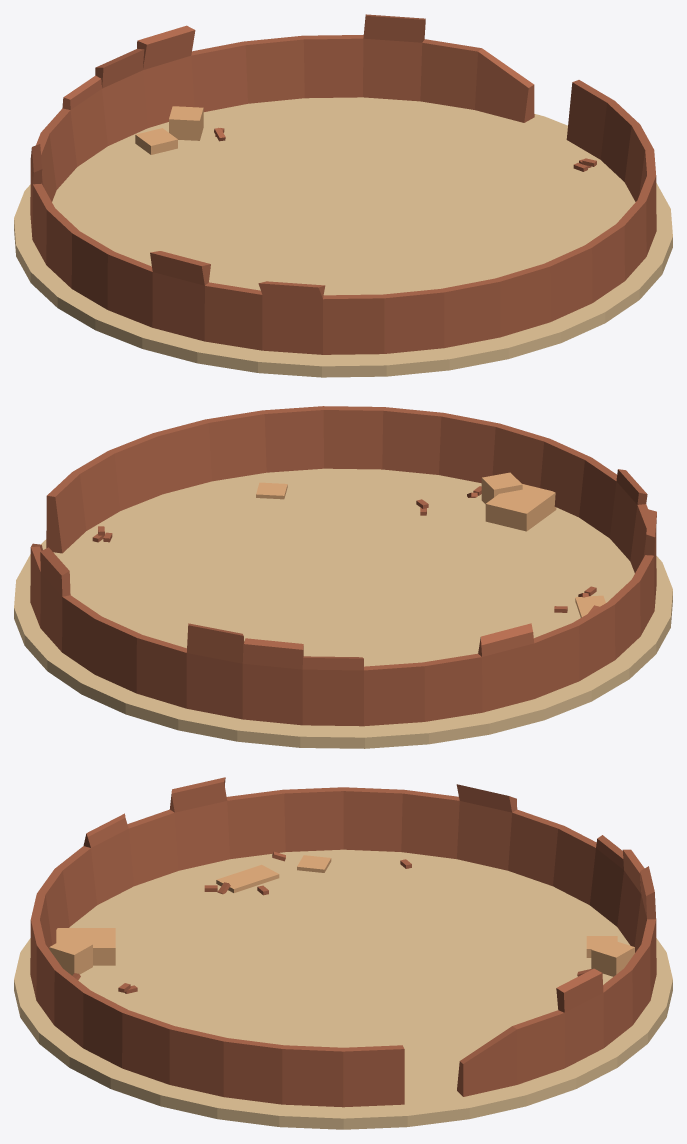
The model's file is arena.fbx.
3 views of the same model, one above another, from view 1: azimuth 30°, elevation 25°; view 2: azimuth 150°, elevation 25°; view 3: azimuth 270°, elevation 25° (orthographic).
Visible parts, largest first — view 1: Cube.021; view 2: Cube.021; view 3: Cube.021.
Boxes of the visible parts, x1,y1,x2,y2 form: Cube.021: (14, 14, 672, 377); Cube.021: (14, 406, 672, 748); Cube.021: (14, 777, 672, 1129).
Bounding box in the file's own units: 2194 × 405 × 2194.
